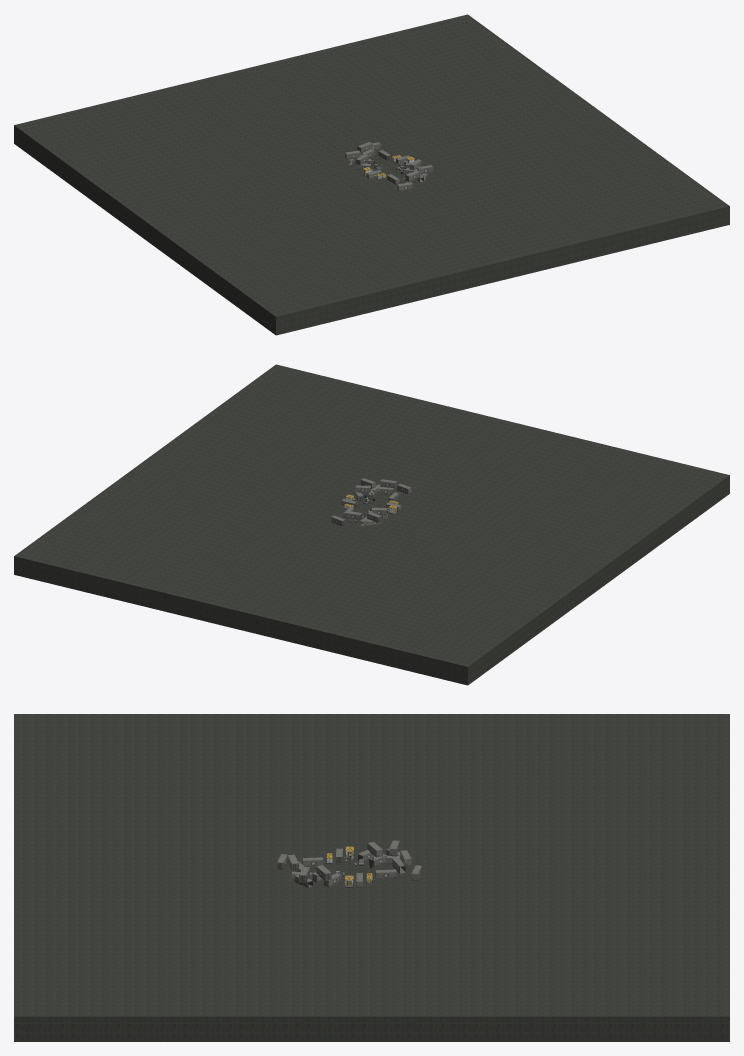
Rendered from warehouse.glb.
The picture shows the model from 3 angles, top to bottom: view 1: azimuth 30°, elevation 25°; view 2: azimuth 150°, elevation 25°; view 3: azimuth 270°, elevation 25°; orthographic projection. The views are drawn at different scales.
Visible parts, largest first — view 1: map_1_4; view 2: map_1_4; view 3: map_1_4.
Boxes of the visible parts, <box> form: map_1_4: <box>14,14,729,335</box>; map_1_4: <box>14,364,729,685</box>; map_1_4: <box>14,714,729,1041</box>.
Bounding box in the file's own units: 256 × 15.7 × 256.
Materials: 36 (34 with a texture image).
